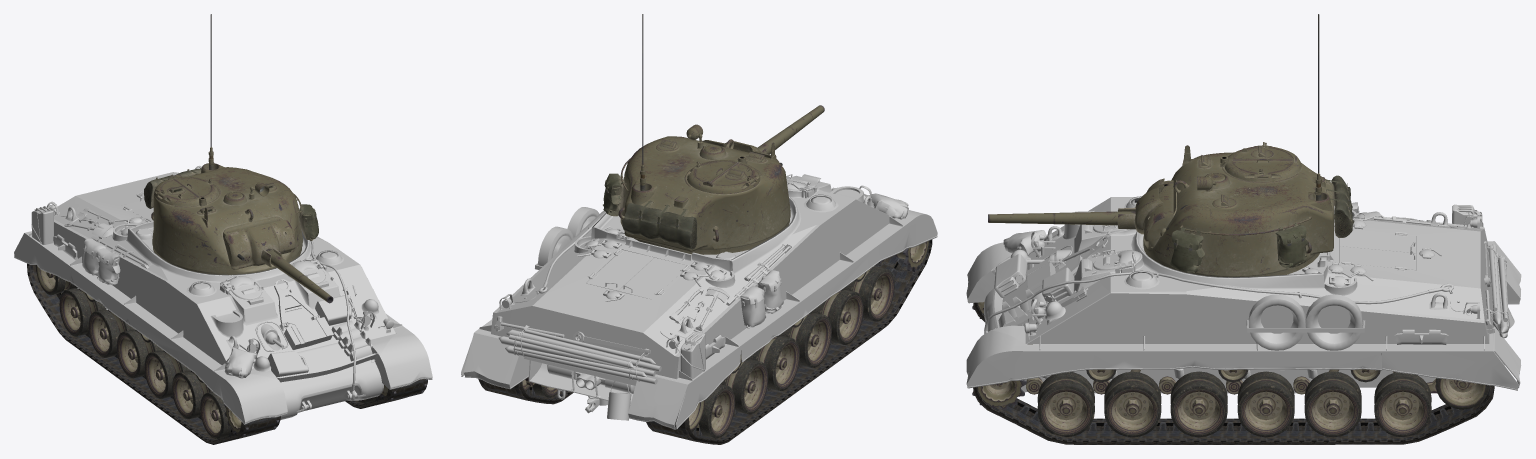
File: NonAnim.fbx
The picture shows the model from 3 angles, left to right: view 1: azimuth 30°, elevation 25°; view 2: azimuth 150°, elevation 25°; view 3: azimuth 270°, elevation 25°; orthographic projection. The views are drawn at different scales.
Parts seen in each view (by area): view 1: american\A44_M4A2E4\normal\l\Hull.pri~5~5, american\A44_M4A2E4\normal\l\Turret_01.pri~5~7, american\A44_M4A2E4\normal\l\Chassis.pri~5~2, american\A44_M4A2E4\normal\l\Hull.pri~5~6, american\A44_M4A2E4\normal\l\Chassis.pri~5~4, american\A44_M4A2E4\normal\l\Gun_01.pri~5~8, american\A44_M4A2E4\normal\l\Chassis.pri~5~3; view 2: american\A44_M4A2E4\normal\l\Hull.pri~5~5, american\A44_M4A2E4\normal\l\Turret_01.pri~5~7, american\A44_M4A2E4\normal\l\Chassis.pri~5~2, american\A44_M4A2E4\normal\l\Hull.pri~5~6, american\A44_M4A2E4\normal\l\Chassis.pri~5~4, american\A44_M4A2E4\normal\l\Gun_01.pri~5~8, american\A44_M4A2E4\normal\l\Chassis.pri~5~3; view 3: american\A44_M4A2E4\normal\l\Hull.pri~5~5, american\A44_M4A2E4\normal\l\Chassis.pri~5~1, american\A44_M4A2E4\normal\l\Turret_01.pri~5~7, american\A44_M4A2E4\normal\l\Hull.pri~5~6, american\A44_M4A2E4\normal\l\Chassis.pri~5~3, american\A44_M4A2E4\normal\l\Gun_01.pri~5~8.
Part boxes in pixels (<box>): american\A44_M4A2E4\normal\l\Hull.pri~5~5: <box>14,165,432,424</box>; american\A44_M4A2E4\normal\l\Turret_01.pri~5~7: <box>144,14,318,274</box>; american\A44_M4A2E4\normal\l\Chassis.pri~5~2: <box>35,265,279,439</box>; american\A44_M4A2E4\normal\l\Hull.pri~5~6: <box>31,204,379,382</box>; american\A44_M4A2E4\normal\l\Chassis.pri~5~4: <box>27,263,280,444</box>; american\A44_M4A2E4\normal\l\Gun_01.pri~5~8: <box>225,219,333,303</box>; american\A44_M4A2E4\normal\l\Chassis.pri~5~3: <box>345,379,427,408</box>; american\A44_M4A2E4\normal\l\Hull.pri~5~5: <box>461,174,937,429</box>; american\A44_M4A2E4\normal\l\Turret_01.pri~5~7: <box>603,14,790,254</box>; american\A44_M4A2E4\normal\l\Chassis.pri~5~2: <box>689,241,928,438</box>; american\A44_M4A2E4\normal\l\Hull.pri~5~6: <box>498,176,908,420</box>; american\A44_M4A2E4\normal\l\Chassis.pri~5~4: <box>646,239,932,444</box>; american\A44_M4A2E4\normal\l\Gun_01.pri~5~8: <box>702,105,824,165</box>; american\A44_M4A2E4\normal\l\Chassis.pri~5~3: <box>478,379,573,404</box>; american\A44_M4A2E4\normal\l\Hull.pri~5~5: <box>966,196,1521,393</box>; american\A44_M4A2E4\normal\l\Chassis.pri~5~1: <box>972,369,1489,437</box>; american\A44_M4A2E4\normal\l\Turret_01.pri~5~7: <box>1143,14,1354,277</box>; american\A44_M4A2E4\normal\l\Hull.pri~5~6: <box>992,202,1514,350</box>; american\A44_M4A2E4\normal\l\Chassis.pri~5~3: <box>973,344,1494,444</box>; american\A44_M4A2E4\normal\l\Gun_01.pri~5~8: <box>988,178,1164,241</box>.
Bounding box in the file's own units: 3.11 × 4.97 × 6.43.
